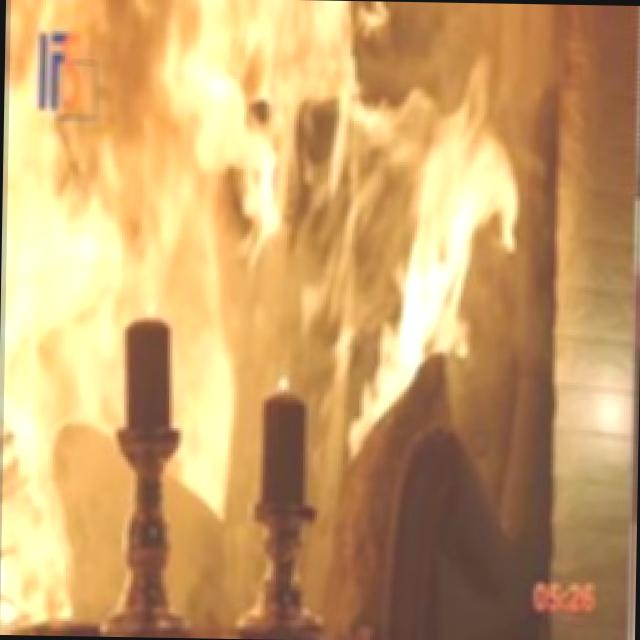fire: (3, 0, 522, 623)
